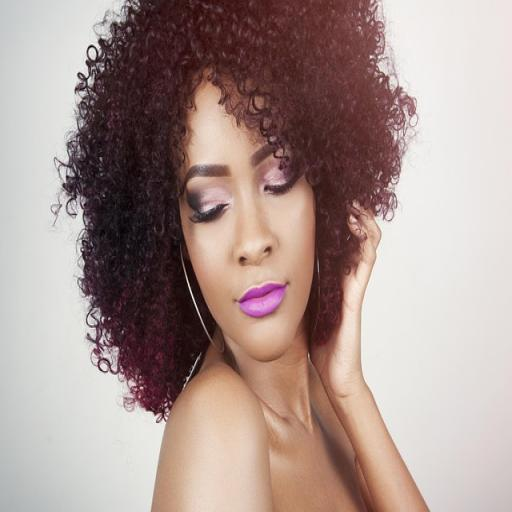lipstick: (238, 284, 286, 317)
